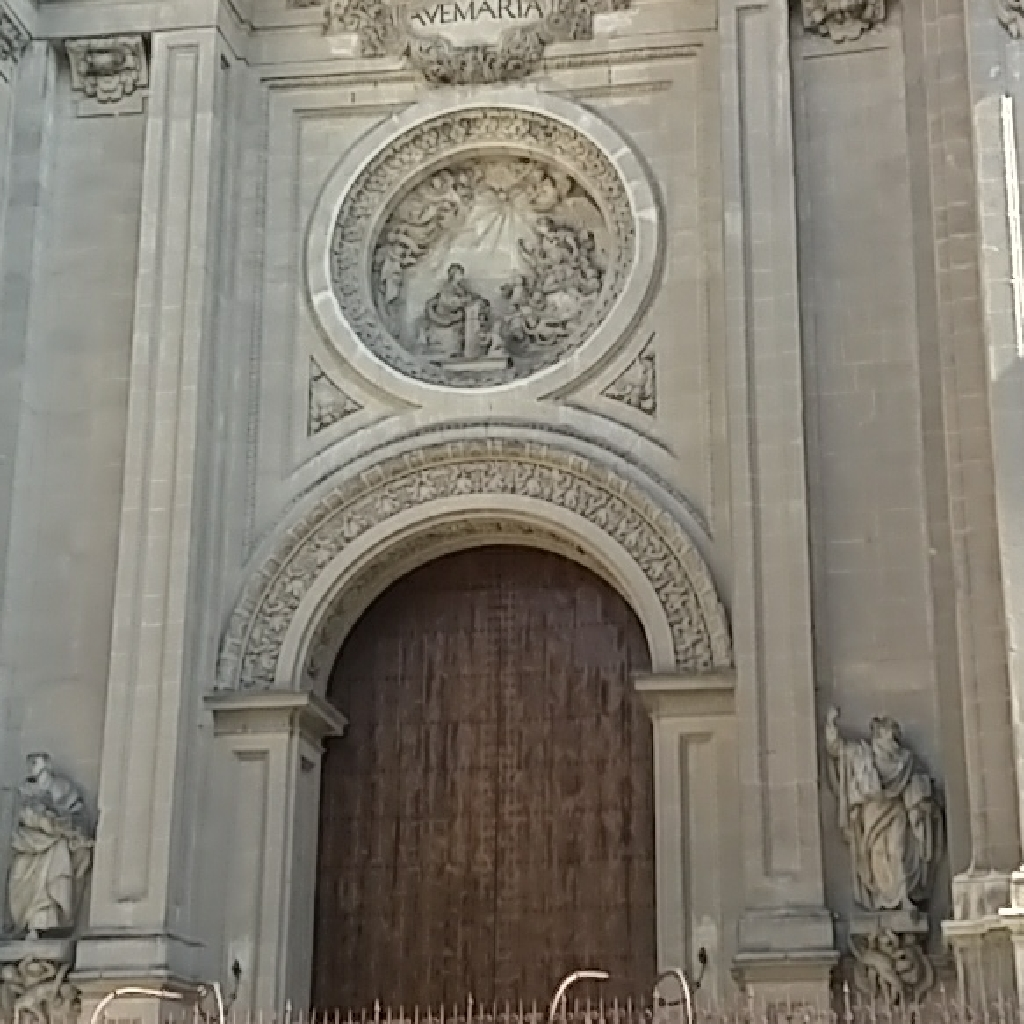arco-medio-punto: (270, 496, 674, 753)
